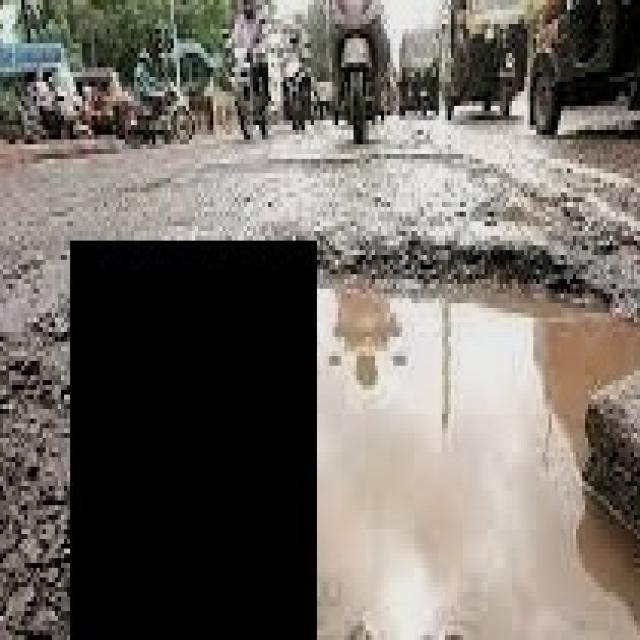road-pothole: (317, 247, 637, 635)
